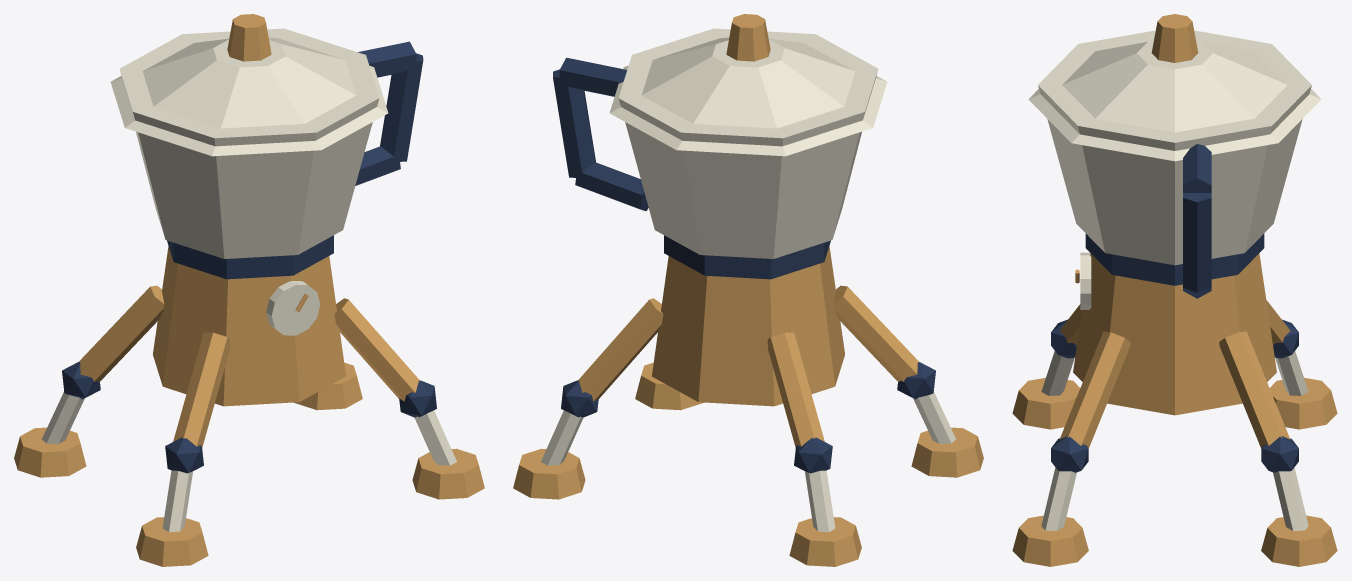
File: moka_lander_v2.glb
3 views of the same model, side by side, from view 1: azimuth 30°, elevation 25°; view 2: azimuth 150°, elevation 25°; view 3: azimuth 270°, elevation 25° (orthographic).
Parts seen in each view (by area): view 1: moka_lander_v2__orbit-ivory, moka_lander_v2__orbit-copper, moka_lander_v2__orbit-server-navy; view 2: moka_lander_v2__orbit-ivory, moka_lander_v2__orbit-copper, moka_lander_v2__orbit-server-navy; view 3: moka_lander_v2__orbit-ivory, moka_lander_v2__orbit-copper, moka_lander_v2__orbit-server-navy.
Part boxes in pixels (left/top/right/bottom): moka_lander_v2__orbit-ivory: left=42, top=28, right=456, bottom=532; moka_lander_v2__orbit-copper: left=14, top=14, right=484, bottom=566; moka_lander_v2__orbit-server-navy: left=62, top=41, right=436, bottom=473; moka_lander_v2__orbit-ivory: left=541, top=28, right=955, bottom=532; moka_lander_v2__orbit-copper: left=513, top=14, right=983, bottom=566; moka_lander_v2__orbit-server-navy: left=553, top=57, right=935, bottom=473; moka_lander_v2__orbit-ivory: left=1028, top=30, right=1321, bottom=530; moka_lander_v2__orbit-copper: left=1012, top=14, right=1337, bottom=566; moka_lander_v2__orbit-server-navy: left=1051, top=144, right=1298, bottom=472.
Size of the model in its own units: 25.07 by 30.5 by 19.5.
